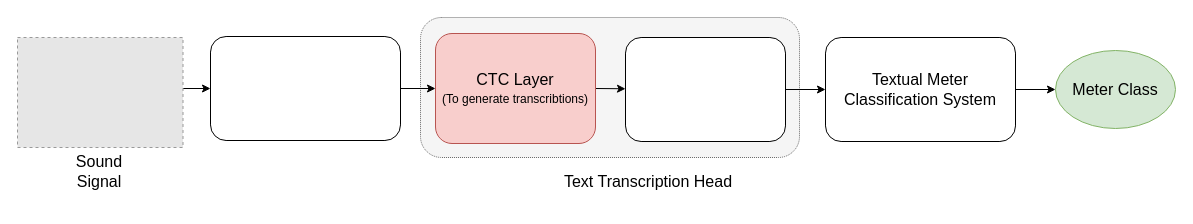
This 1193x224 diagram has some shape labels left out. Grey dashed boxes stand in for pictures. Here are the shapes that lost their labels. From the top down, the box of each, then its label:
(210, 36, 400, 140): Speech Embedding System (Wav2Vec)
(624, 36, 786, 142): Language Model (To improve transcriptions)
